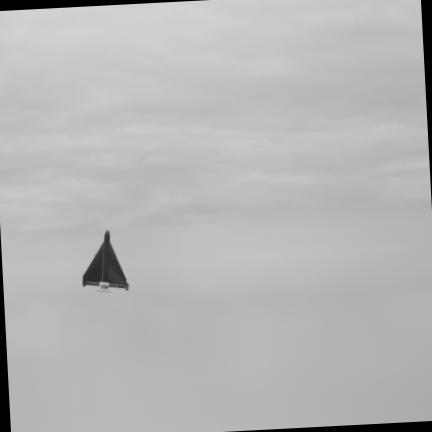Shahed: (84, 230, 128, 290)
